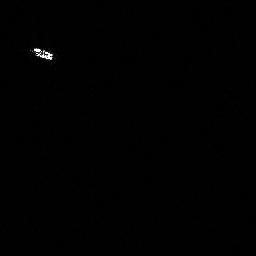ship: (28, 44, 55, 62)
